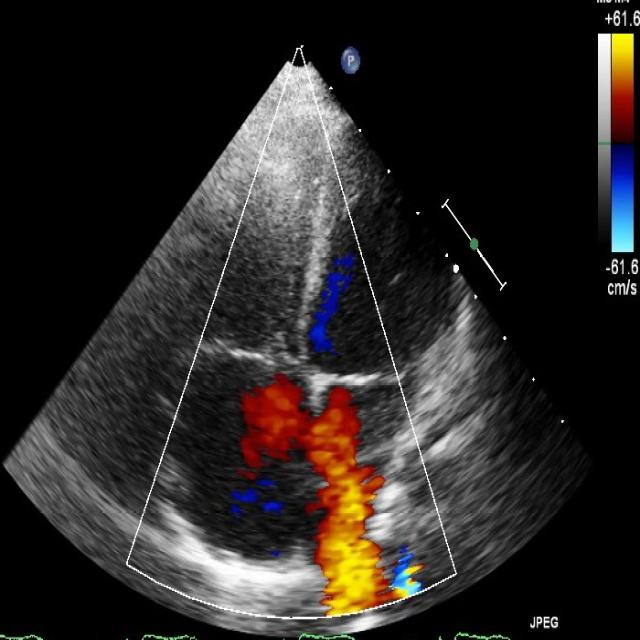ASDType2: (248, 379, 372, 494)
